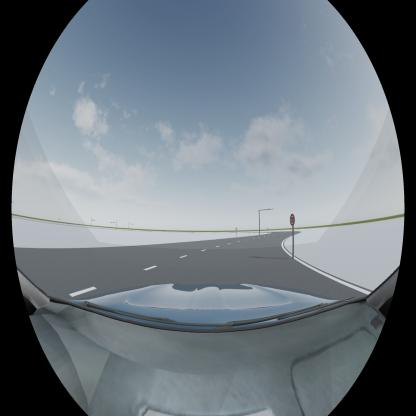Speed Limit 120: (290, 214, 295, 226)
